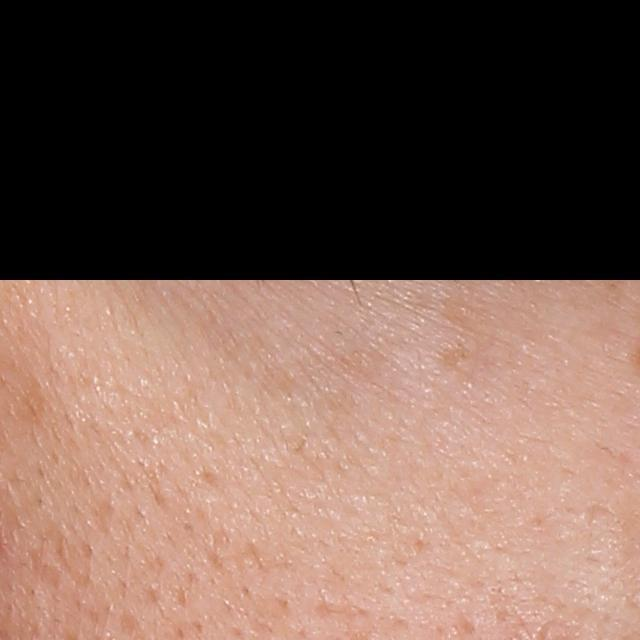melasma: (442, 343, 477, 370)
